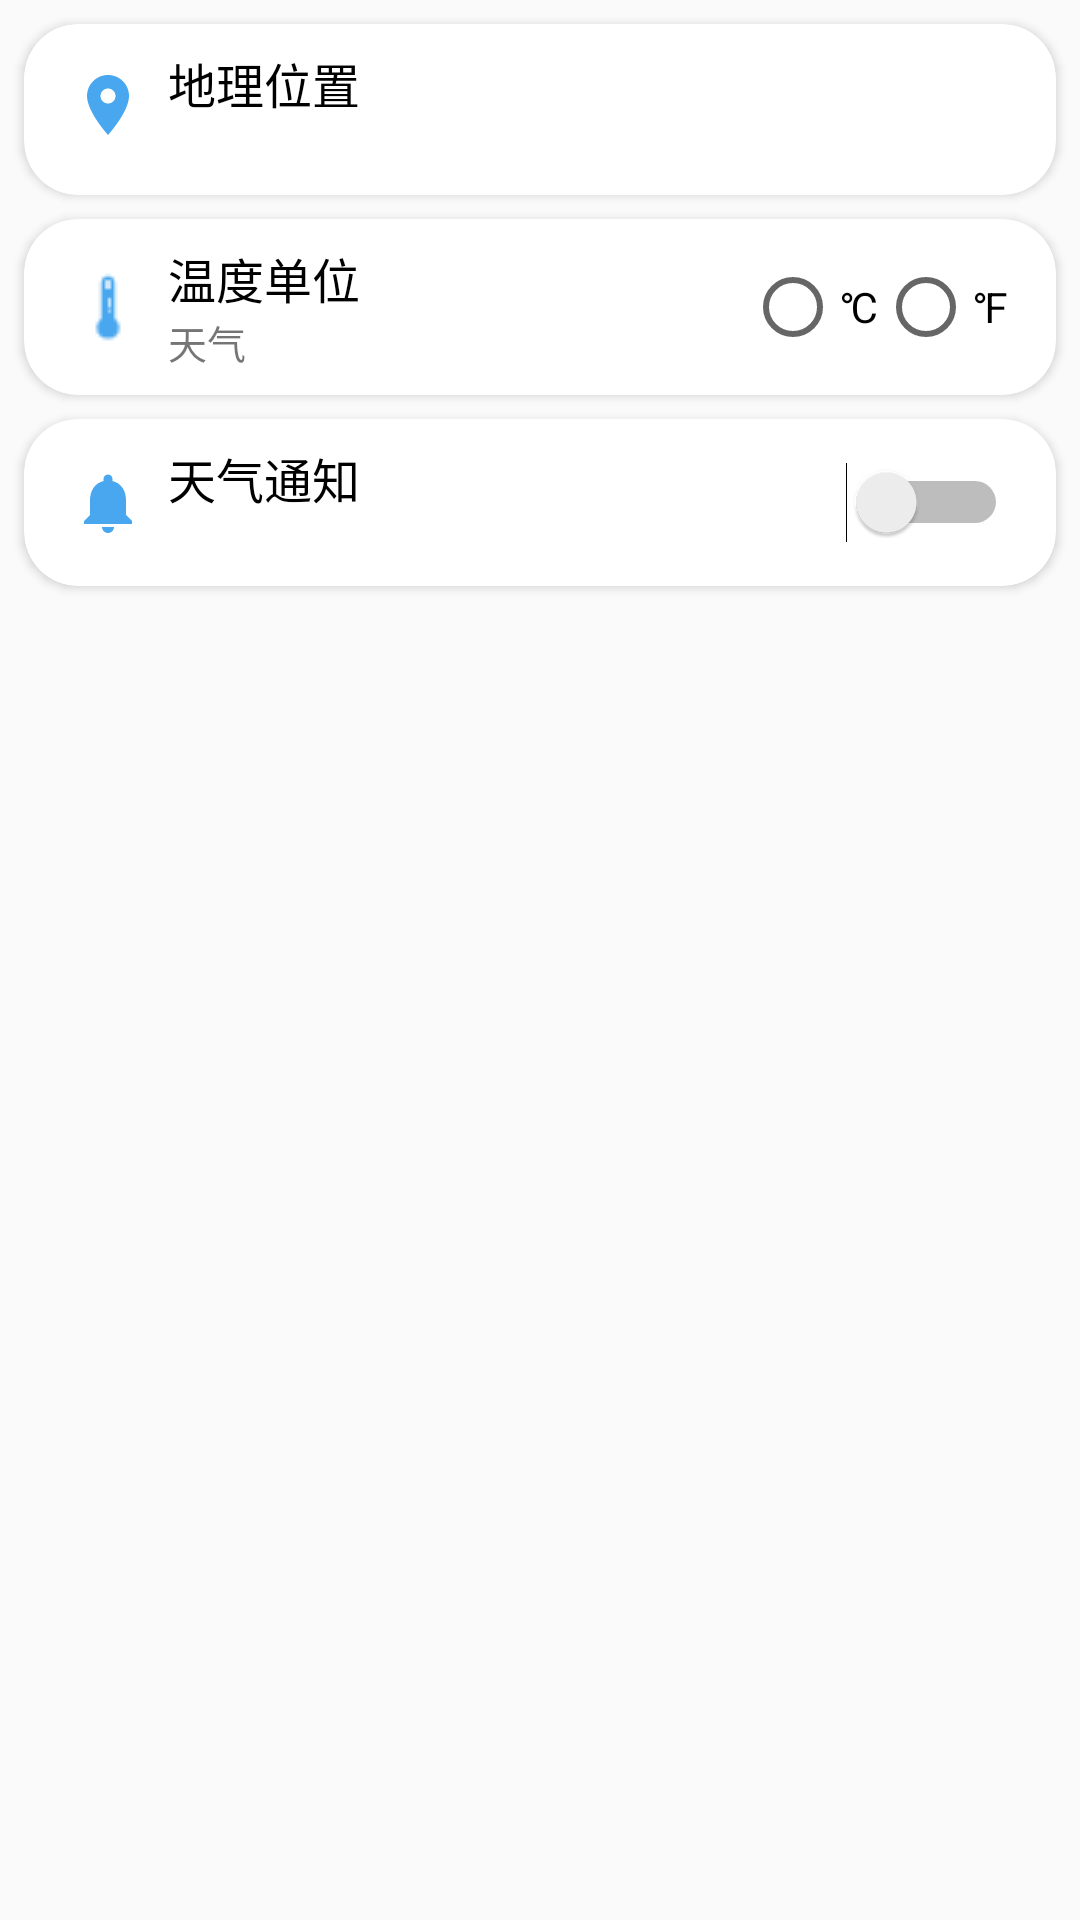

Icon bounding boxes for this 1080x1920 phone screenshot, format (x1,y1,x2,y2):
location on: (87,75,129,135)
notifications: (84,474,132,533)
thermometer: (95,274,121,341)
